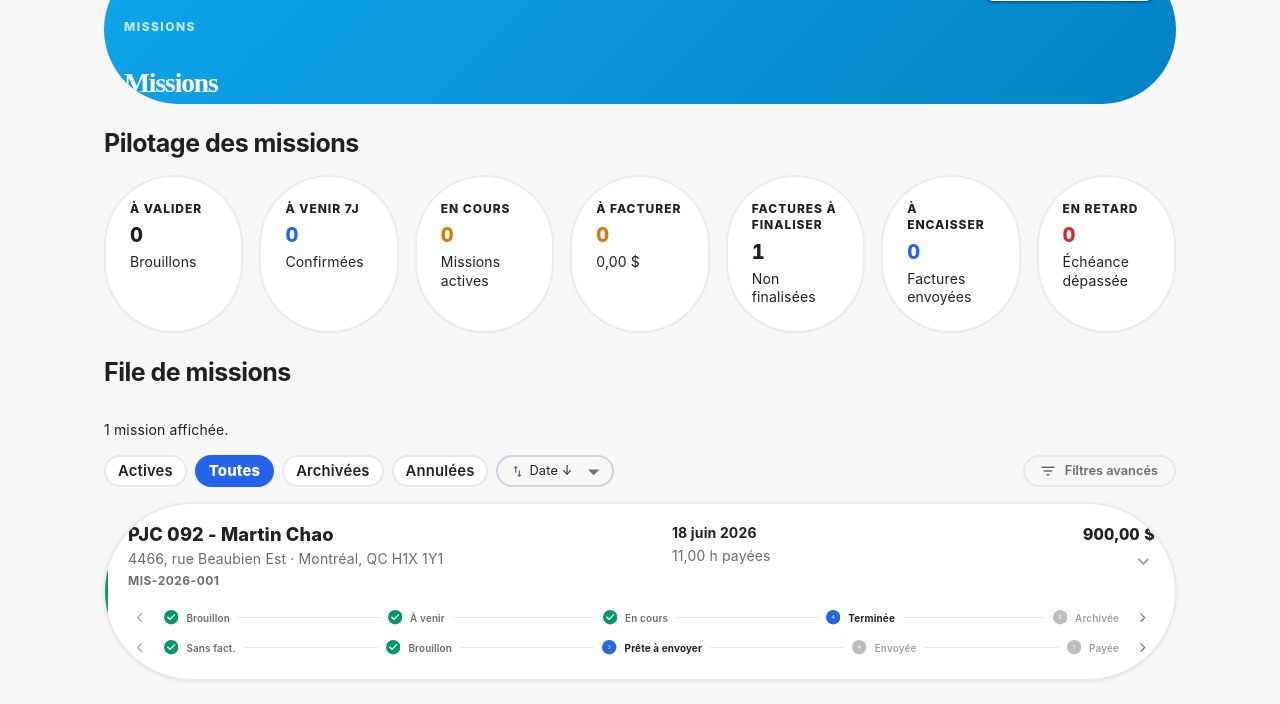
Test: MissionsPage — bidirectional frise navigation › invoice frise back step: ready_to_send → shows revert to draft dialog
(page scrolled)
Step 1. Click the button named "Reculer : Facture :" → (140, 648), box left=128, top=636, right=152, bottom=660
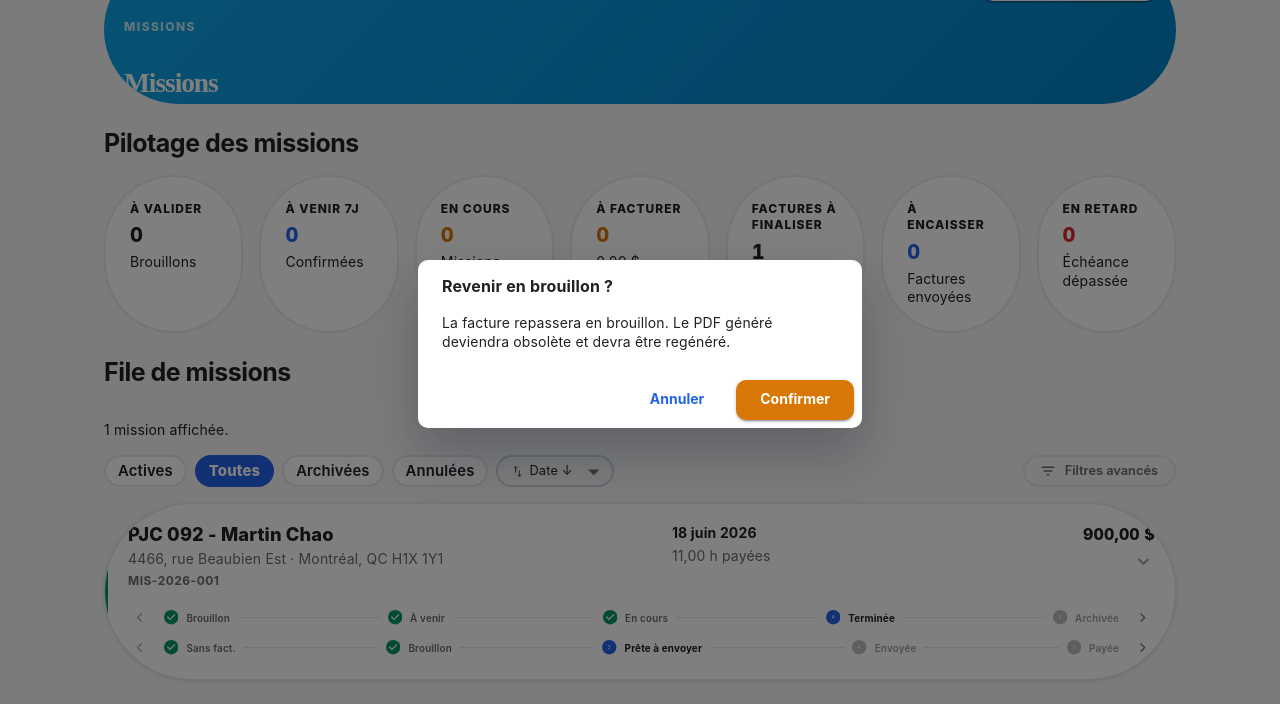
Now the heading "Revenir en brouillon ?" is shown, box left=442, top=276, right=613, bottom=296
